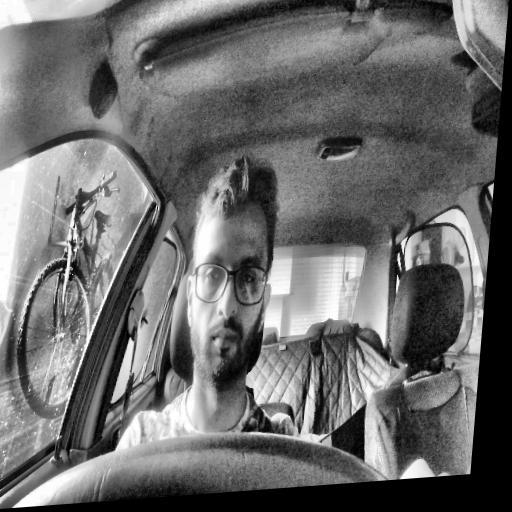awake: (177, 157, 282, 387)
